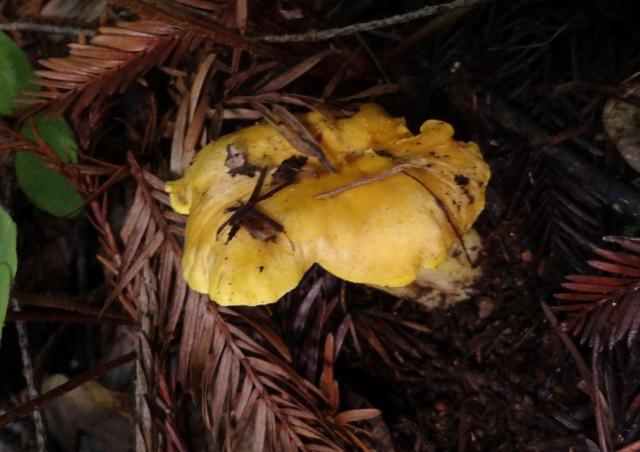Edible Mushroom: (163, 100, 491, 309)
